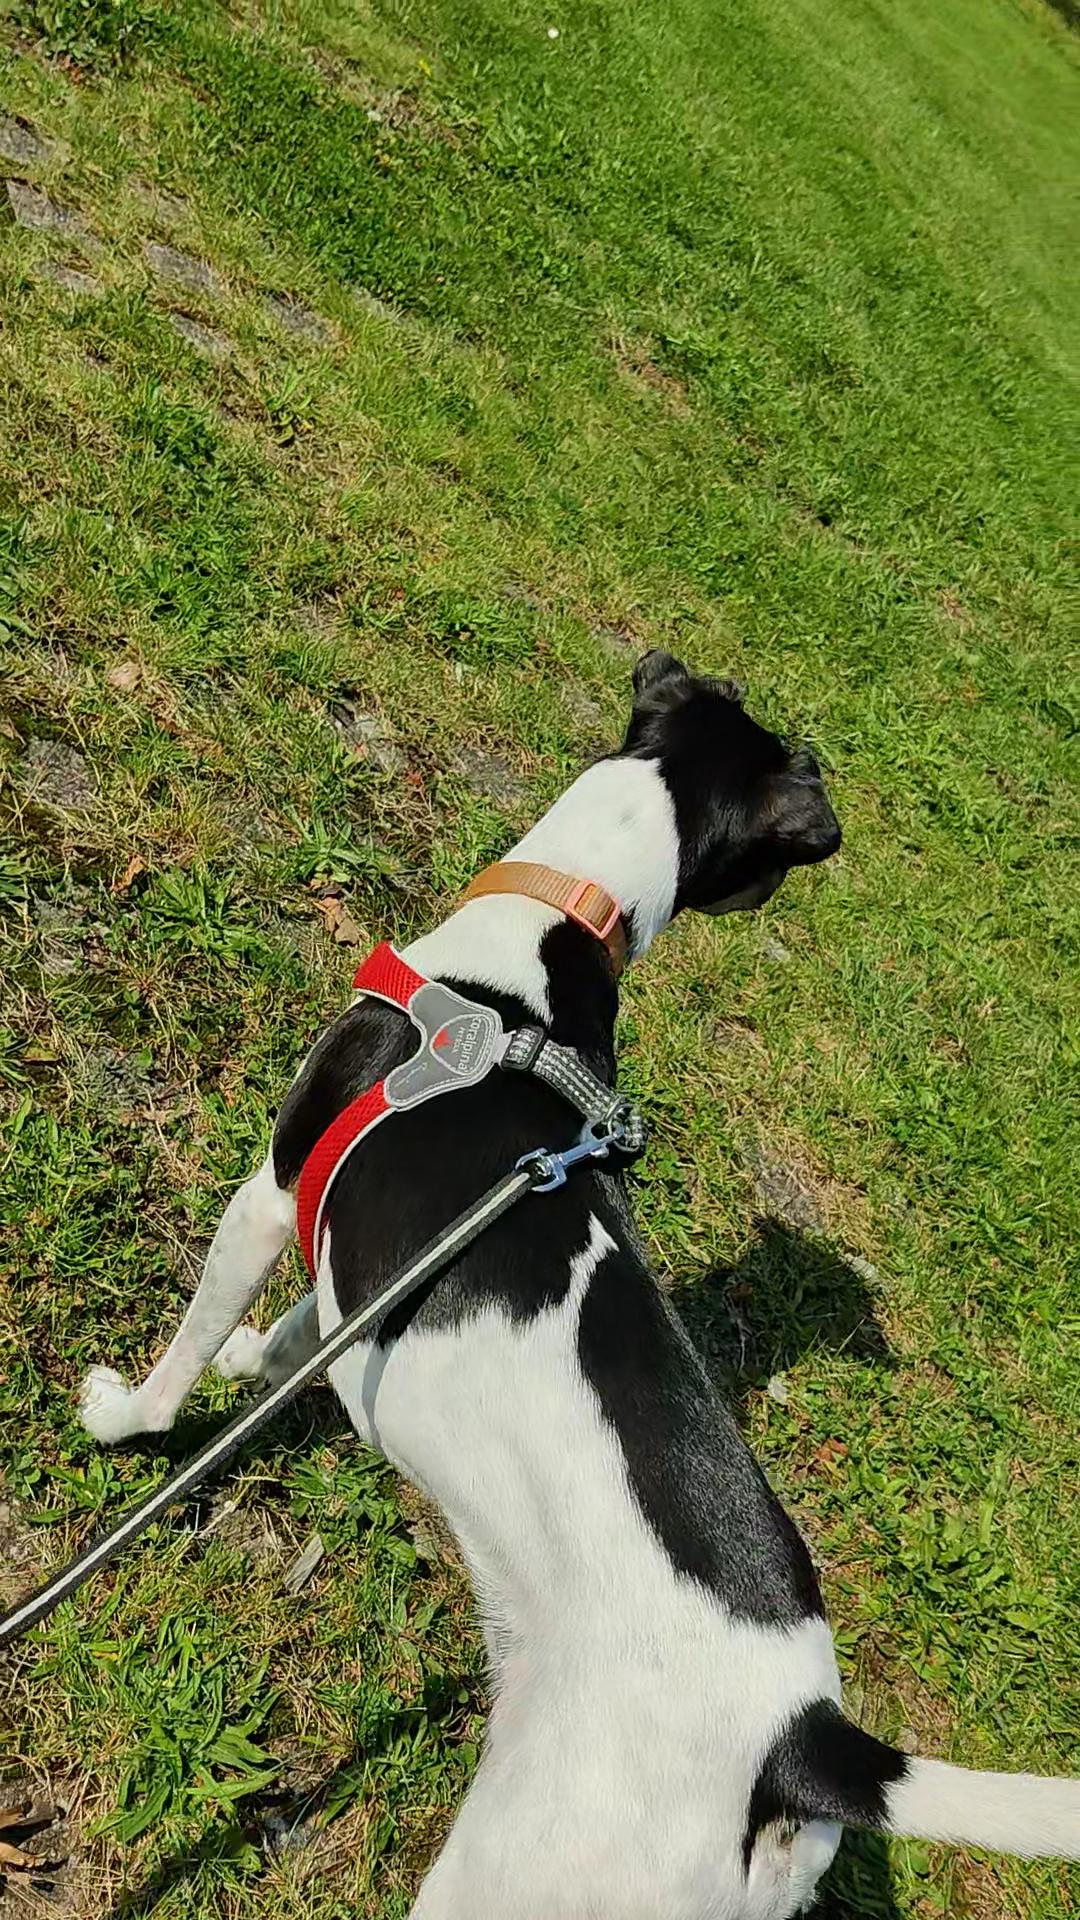Dog: (76, 636, 1079, 1919)
